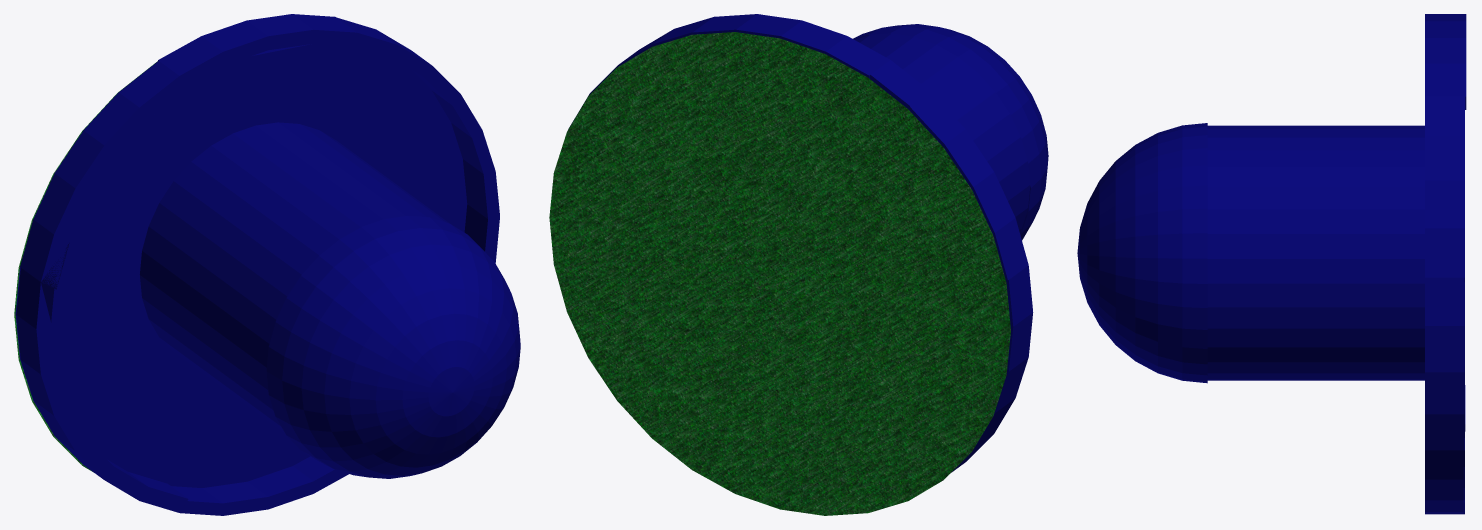
The model's file is mailletF.obj.
The picture shows the model from 3 angles, left to right: view 1: azimuth 30°, elevation 25°; view 2: azimuth 150°, elevation 25°; view 3: azimuth 270°, elevation 25°; orthographic projection. The views are drawn at different scales.
Parts seen in each view (by area): view 1: Cylinder; view 2: Cylinder; view 3: Cylinder.
Boxes of the visible parts, box(x1,y1,x2,y2) form: Cylinder: box(14, 14, 520, 515); Cylinder: box(549, 14, 1048, 515); Cylinder: box(1077, 14, 1466, 514).
Bounding box in the file's own units: 3.11 × 3.04 × 2.37.
2 materials, 1 textured.
